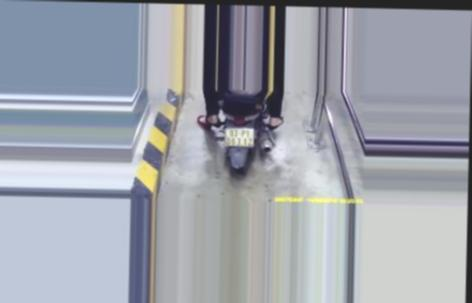License_Plate: (222, 125, 256, 151)
